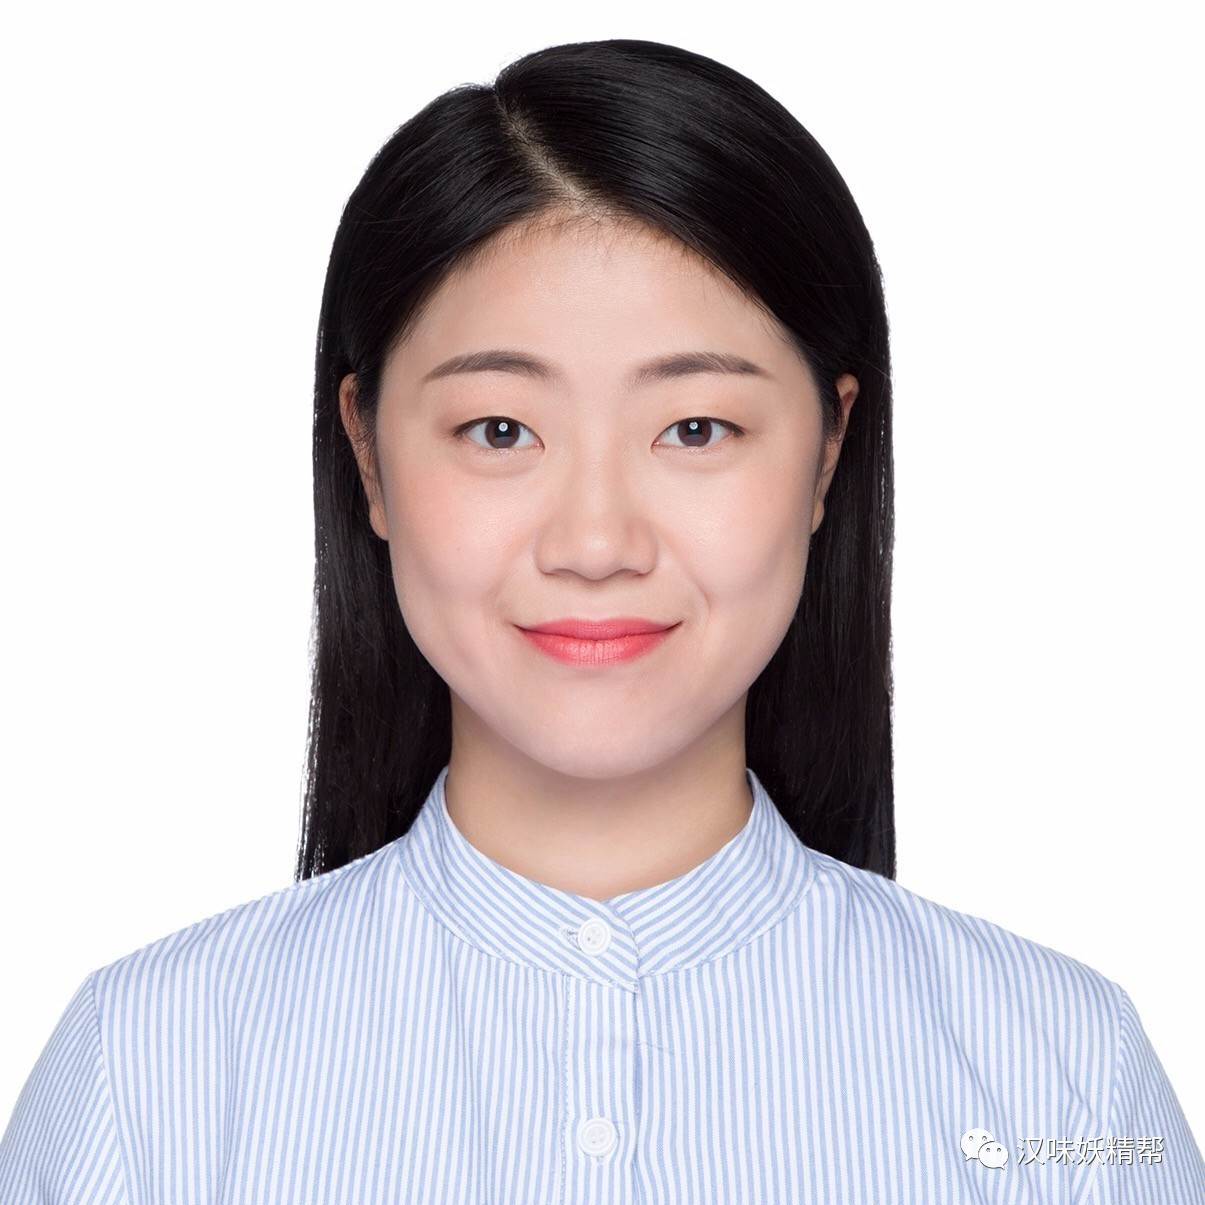unmask: (373, 271, 822, 763)
